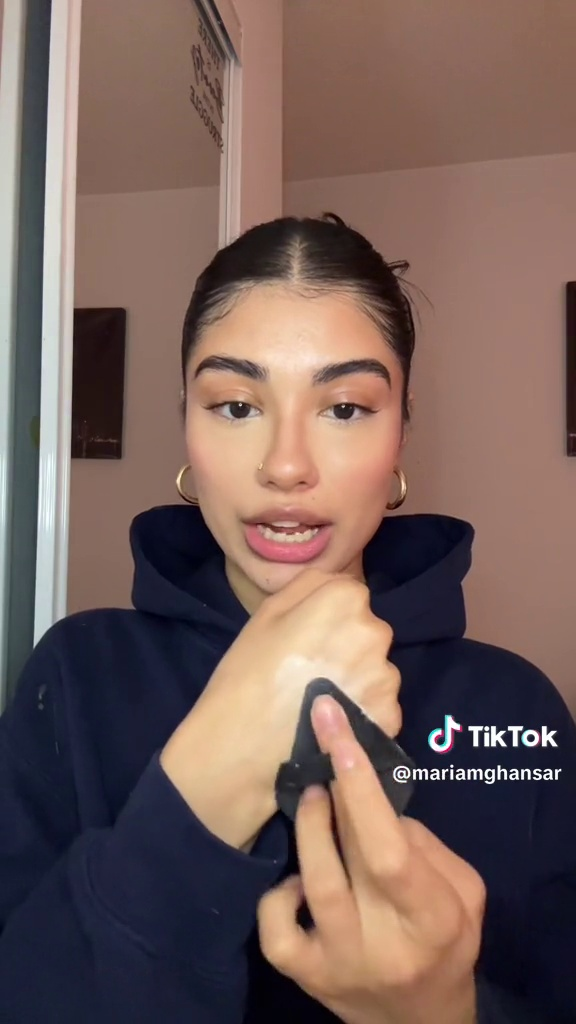train' :'yolo_data/train/images',: (269, 662, 421, 838)
